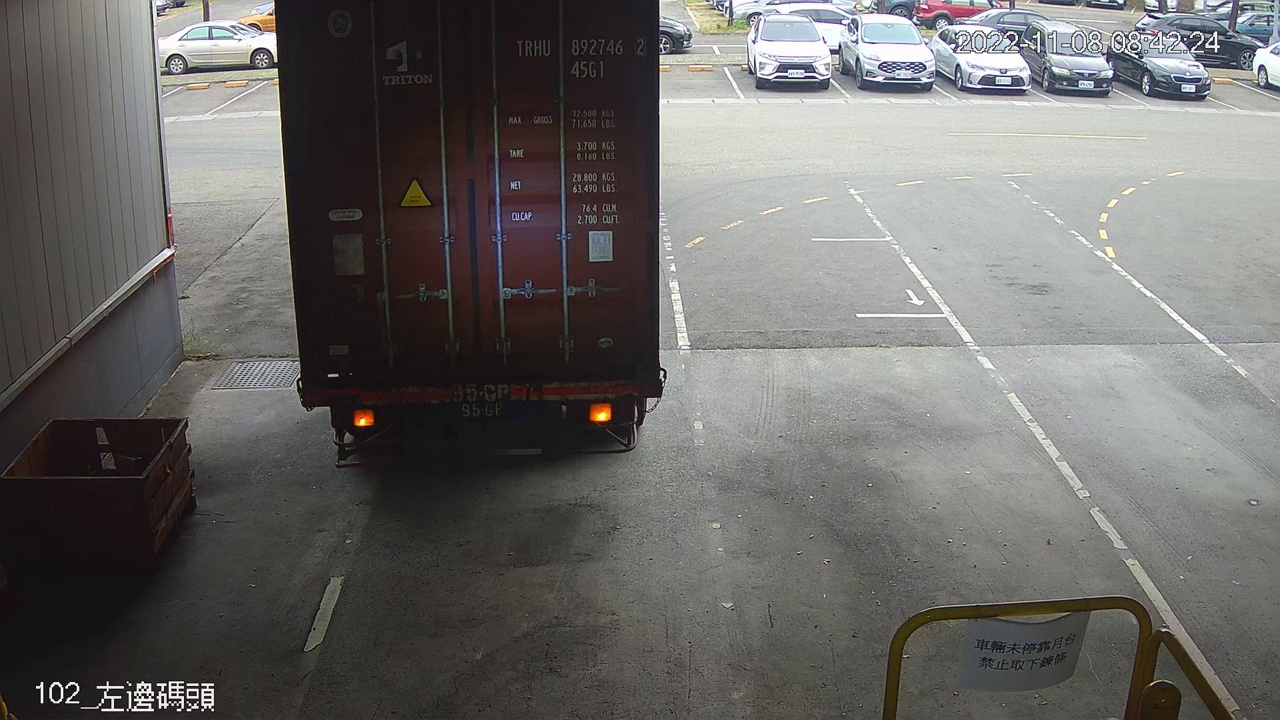container: (509, 28, 651, 86)
